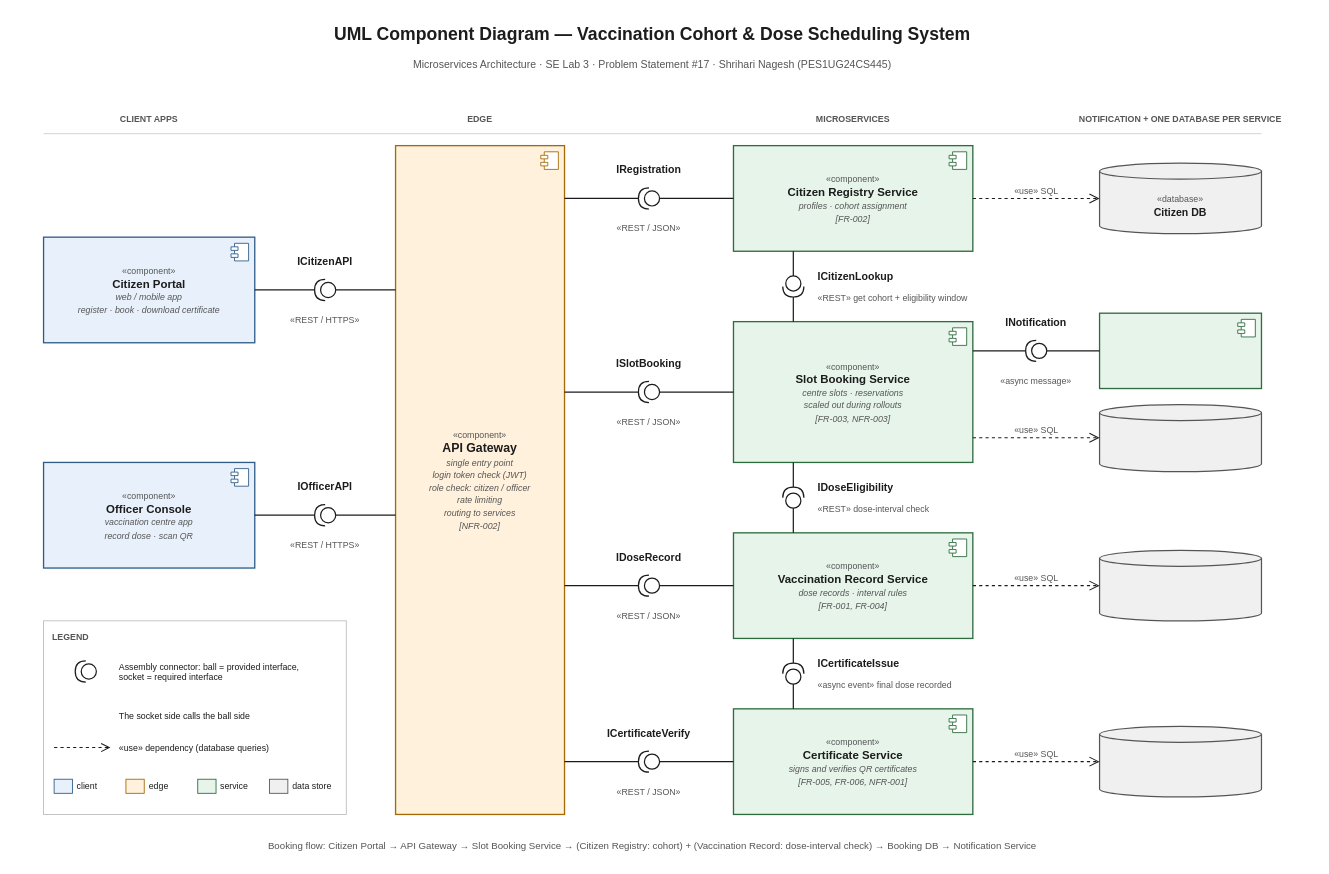
Image size: 1329x874. Some labels were removed from this diagram. The centre of each missing label's shape, as x and y in pixels:
«component» Notification Service [FR-007]: point (1180, 350)
«database» Booking DB: point (1180, 438)
«database» Certificate Store: point (1180, 761)
«database» Records DB: point (1180, 585)
